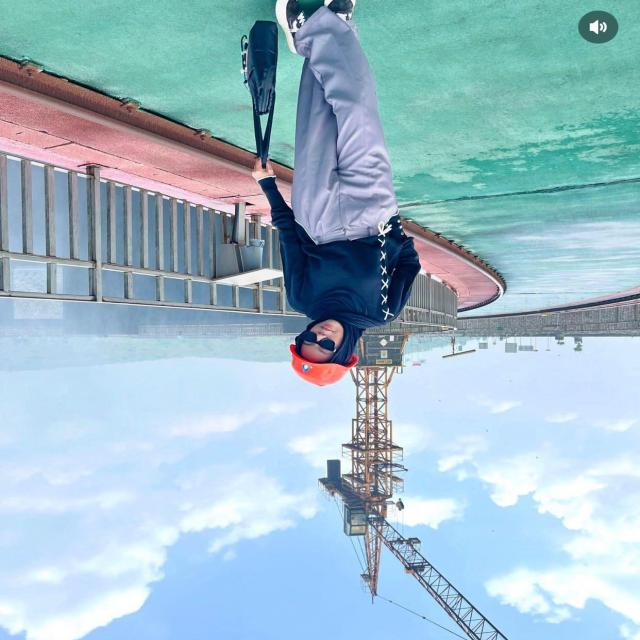safetyhelmet: (287, 315, 367, 395)
